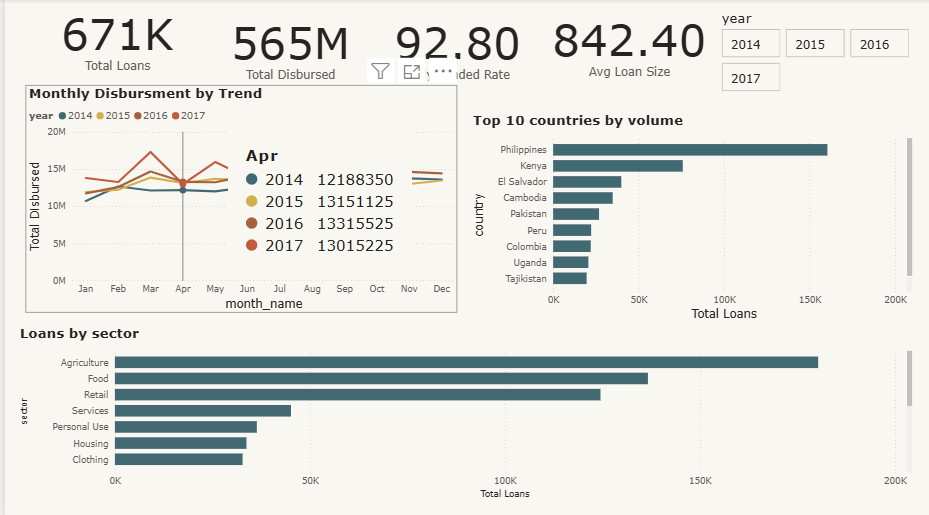

What the dashboard file says about the page in this screenshot:
{"tool":"powerbi","page":{"name":"Portfolio Overview","canvas":[1280,720],"ordinal":0},"visuals":[{"type":"card","fields":{"Values":["Measures (2).Total Loans"]},"box":[15.6,0,279.8,107.8],"z":0},{"type":"card","fields":{"Values":["Measures (2).Total Disbursed"]},"box":[254.5,12.7,279.9,108.2],"z":1000},{"type":"card","fields":{"Values":["Measures (2).Fully Funded Rate"]},"box":[486.7,12.7,279.9,108.2],"z":2000},{"type":"card","fields":{"Values":["Measures (2).Avg Loan Size"]},"box":[739.6,0,248.1,125.6],"z":3000},{"type":"lineChart","title":"Monthly Disbursment by Trend","fields":{"Category":["kiva_loans_clean.month_name"],"Y":["Measures (2).Total Disbursed"],"Series":["kiva_loans_clean.year"]},"box":[28.3,118.3,598.3,316.7],"z":4000},{"type":"clusteredBarChart","title":"Top 10 countries by volume","fields":{"Category":["kiva_loans_clean.country"],"Y":["Measures (2).Total Loans"]},"box":[642.3,156.3,617.3,293.8],"z":5000},{"type":"clusteredBarChart","title":"Loans by sector","fields":{"Category":["kiva_loans_clean.sector"],"Y":["Measures (2).Total Loans"]},"box":[16,450,1244,246],"z":6000},{"type":"advancedSlicerVisual","fields":{"Values":["kiva_loans_clean.year"]},"box":[986.7,13.3,271.7,120],"z":7000}]}

Visuals, with their boxes in screenshot pixels (x1, y1, x2, y2), scaled from the page's 1280x720 canvas onto the 929x515 screenshot:
card - Measures (2).Total Loans: region(11, 0, 214, 77)
card - Measures (2).Total Disbursed: region(185, 9, 388, 86)
card - Measures (2).Fully Funded Rate: region(353, 9, 556, 86)
card - Measures (2).Avg Loan Size: region(537, 0, 717, 90)
"Monthly Disbursment by Trend" lineChart: region(21, 85, 455, 311)
"Top 10 countries by volume" clusteredBarChart: region(466, 112, 914, 322)
"Loans by sector" clusteredBarChart: region(12, 322, 914, 498)
advancedSlicerVisual - kiva_loans_clean.year: region(716, 10, 913, 95)
